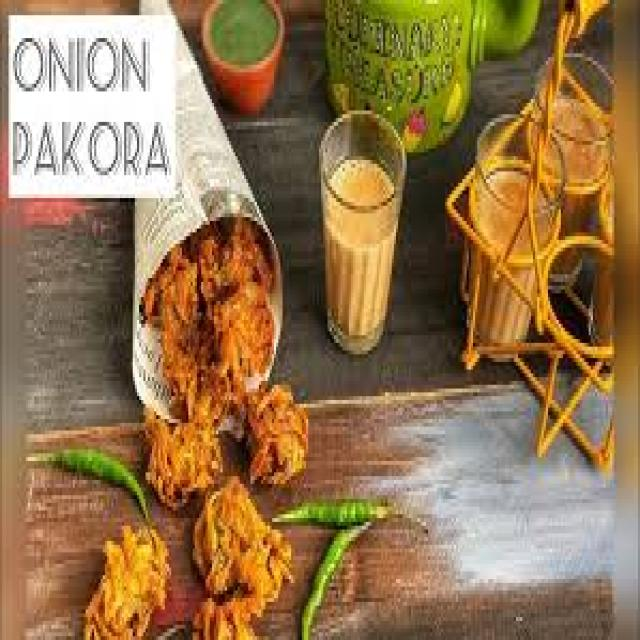BAJI: (139, 219, 276, 507), (194, 482, 290, 636), (83, 525, 173, 636), (245, 379, 307, 486)
